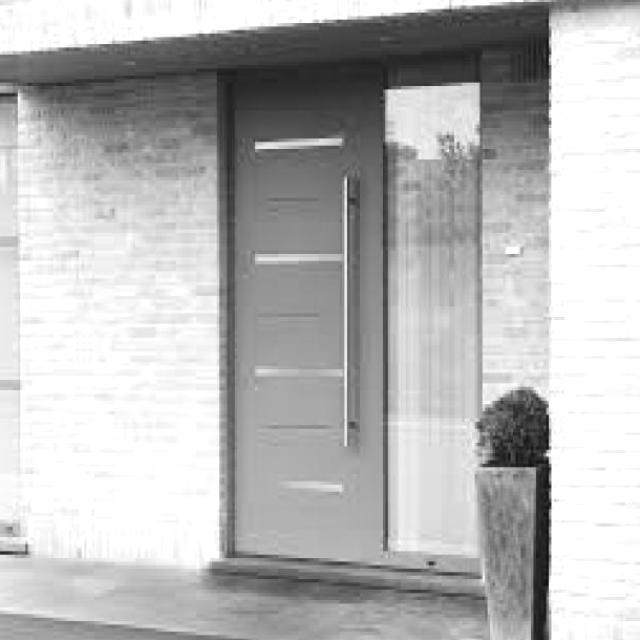door: (229, 67, 387, 562)
